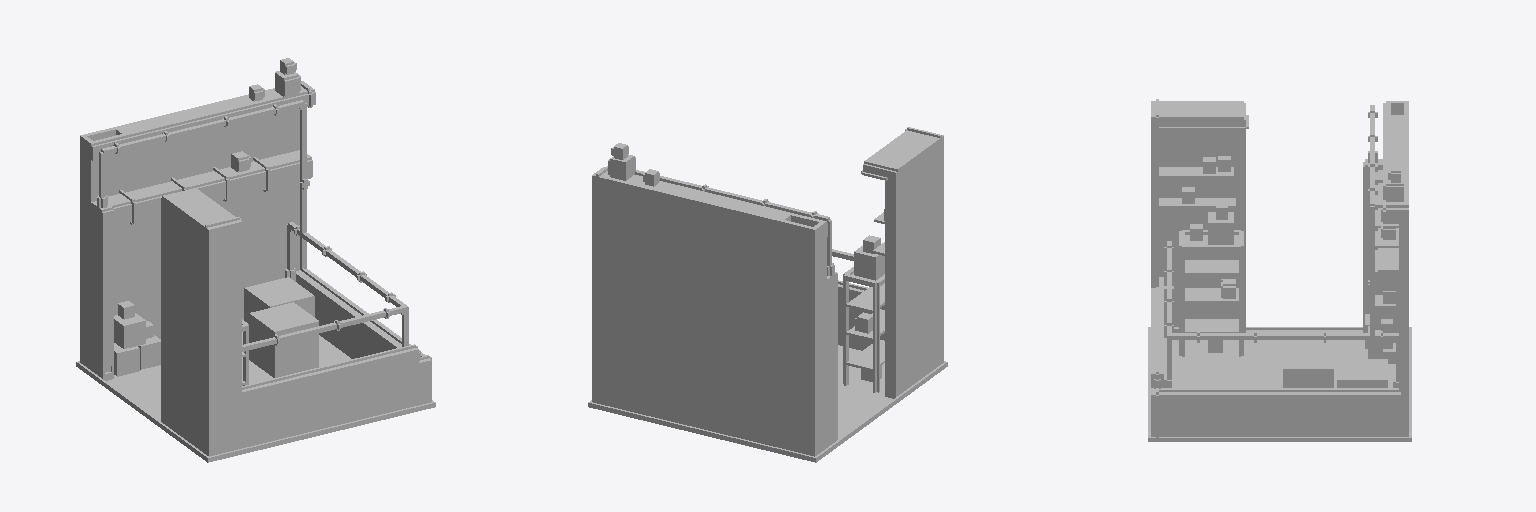
File: Room_6.obj
The picture shows the model from 3 angles: view 1: azimuth 30°, elevation 25°; view 2: azimuth 150°, elevation 25°; view 3: azimuth 270°, elevation 25°; orthographic projection.
Size of the model in its own units: 102 by 112 by 102.